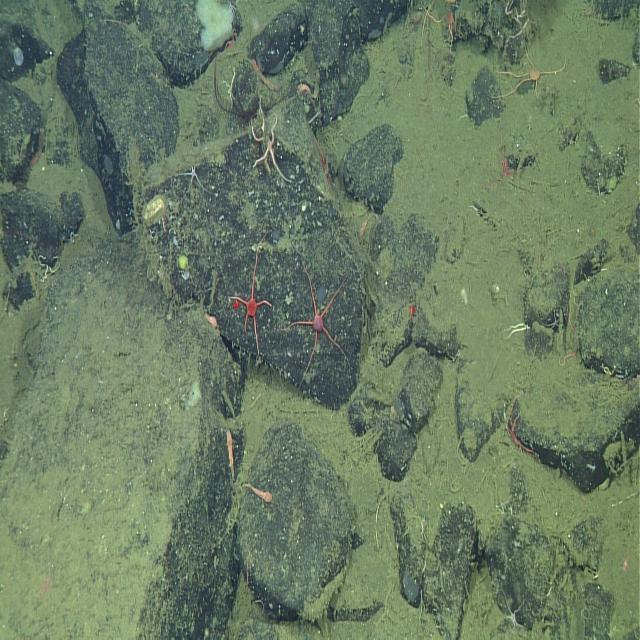Brittle Star: (278, 257, 354, 382), (228, 247, 275, 362), (497, 42, 570, 108), (248, 109, 296, 188), (482, 128, 530, 198), (420, 1, 468, 63), (178, 153, 211, 200), (497, 589, 530, 636), (32, 556, 59, 607), (34, 254, 63, 296), (536, 300, 566, 333)
